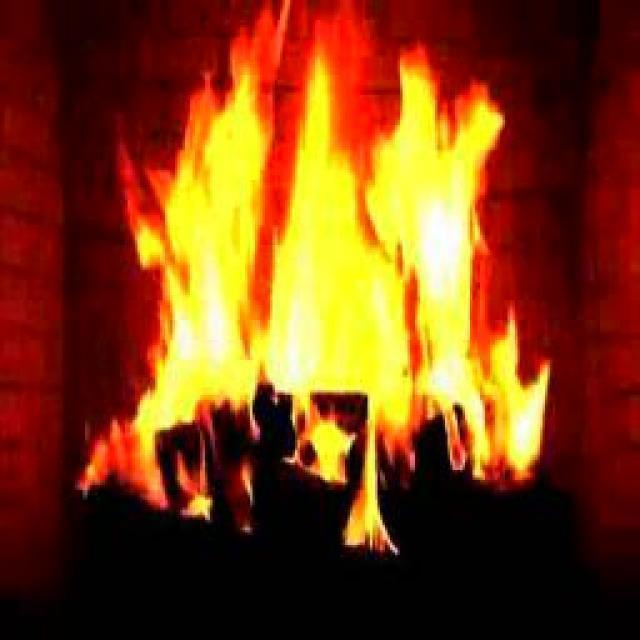Fire: (129, 65, 543, 487)
